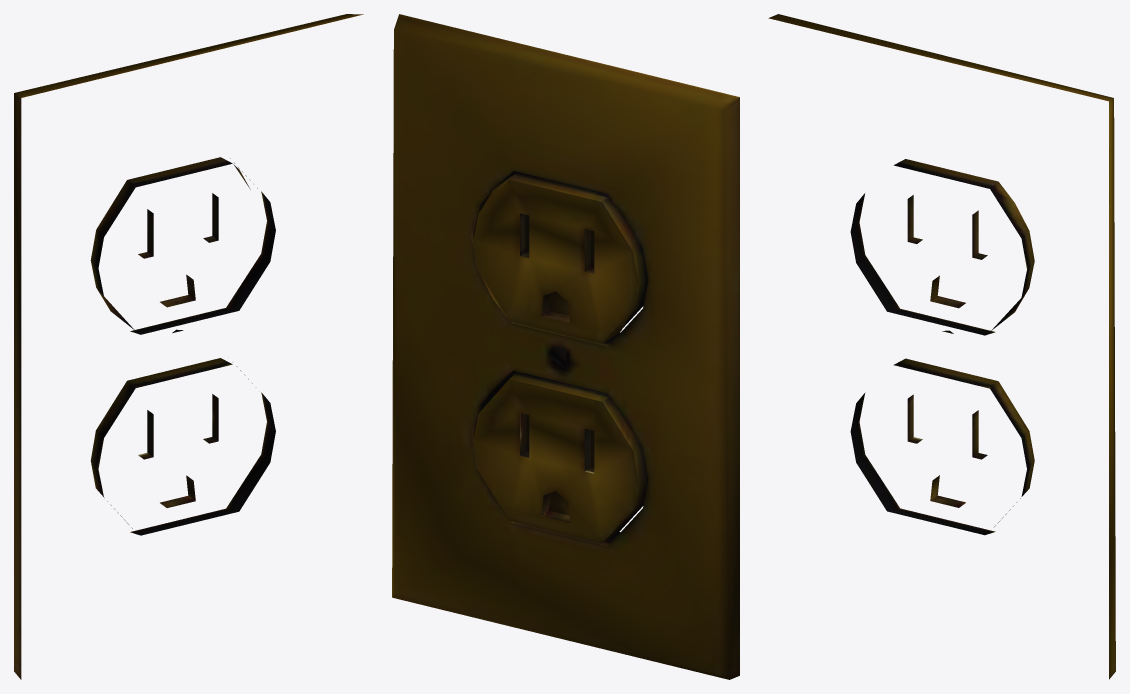
Rendered from socket.glb.
3 renders of one model, left to right at view 1: azimuth 30°, elevation 25°; view 2: azimuth 150°, elevation 25°; view 3: azimuth 330°, elevation 25°, orthographic.
Parts seen in each view (by area): view 1: body; view 2: body; view 3: body.
Boxes of the visible parts, x1=… form: body: x1=14, y1=14, x2=363, y2=679; body: x1=392, y1=14, x2=739, y2=679; body: x1=768, y1=14, x2=1115, y2=679.
Size of the model in its own units: 0.0771 by 0.125 by 0.00632.
1 material, 1 textured.
